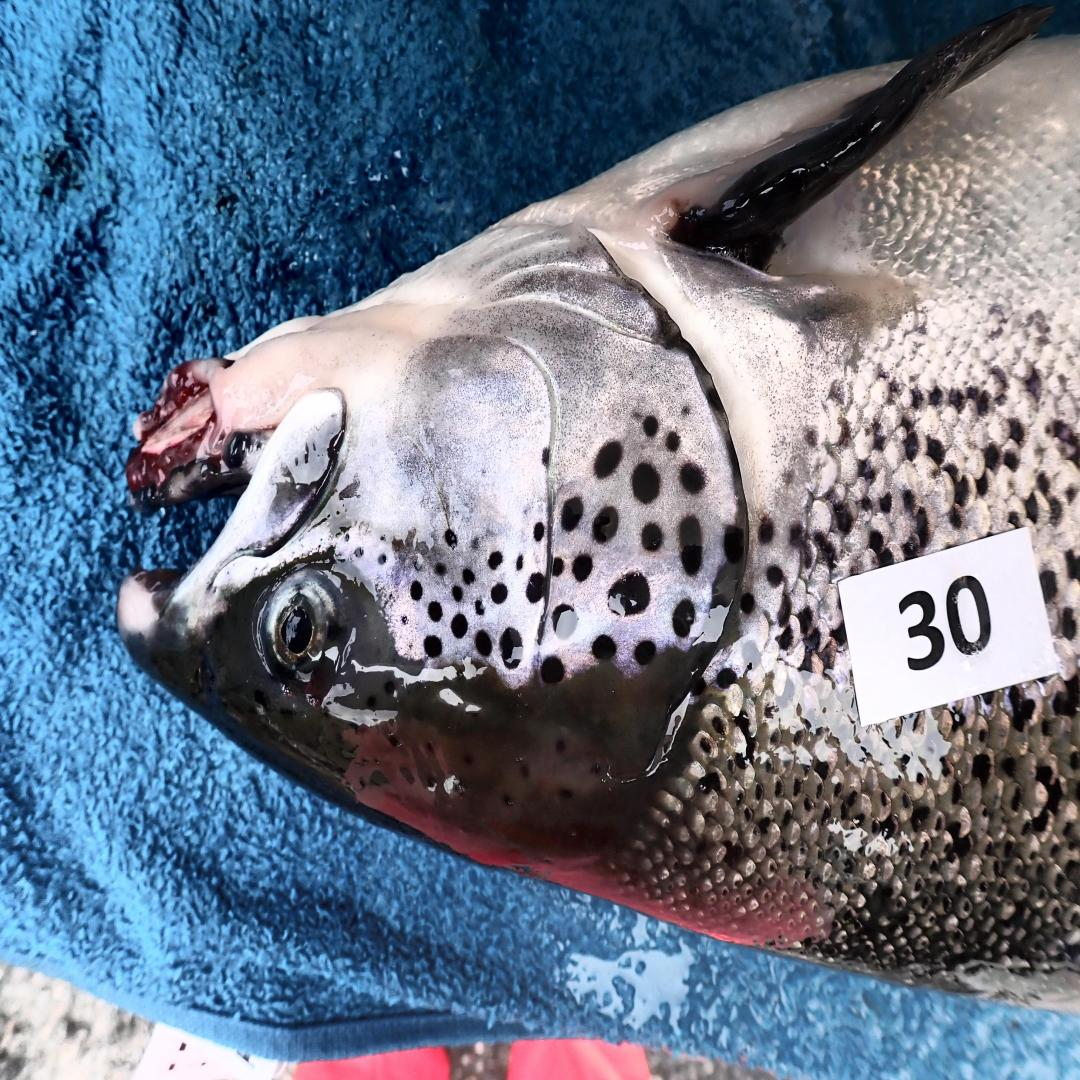spot: (608, 571, 650, 616), (679, 515, 702, 574), (633, 464, 660, 503), (595, 442, 622, 478), (500, 627, 523, 669), (679, 461, 707, 495), (593, 506, 618, 543), (553, 605, 578, 641), (673, 599, 696, 638), (561, 498, 584, 532), (724, 526, 745, 562), (525, 574, 548, 605), (540, 655, 565, 683), (641, 523, 662, 551), (572, 554, 593, 582), (593, 636, 616, 661), (635, 641, 656, 667), (475, 630, 491, 658), (451, 613, 468, 638), (424, 636, 443, 658), (664, 430, 681, 453), (491, 582, 508, 605), (643, 416, 658, 436), (487, 551, 502, 571), (462, 565, 477, 585), (428, 602, 443, 622), (681, 402, 694, 425), (409, 579, 422, 602), (443, 529, 458, 548), (553, 557, 565, 577), (451, 585, 464, 602), (534, 523, 544, 543), (435, 562, 447, 577), (515, 554, 525, 571), (475, 599, 485, 616), (542, 447, 551, 464), (470, 537, 480, 549), (354, 546, 363, 557), (414, 560, 422, 572), (377, 554, 386, 564), (401, 615, 407, 625), (345, 534, 350, 541), (380, 534, 384, 542)
